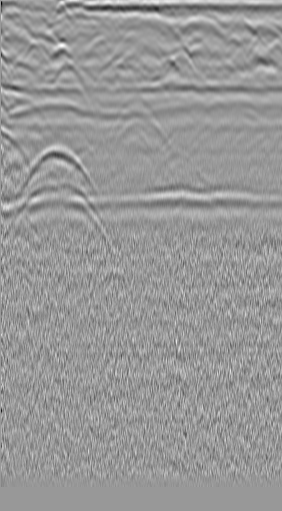가스: (0, 183, 281, 223)
